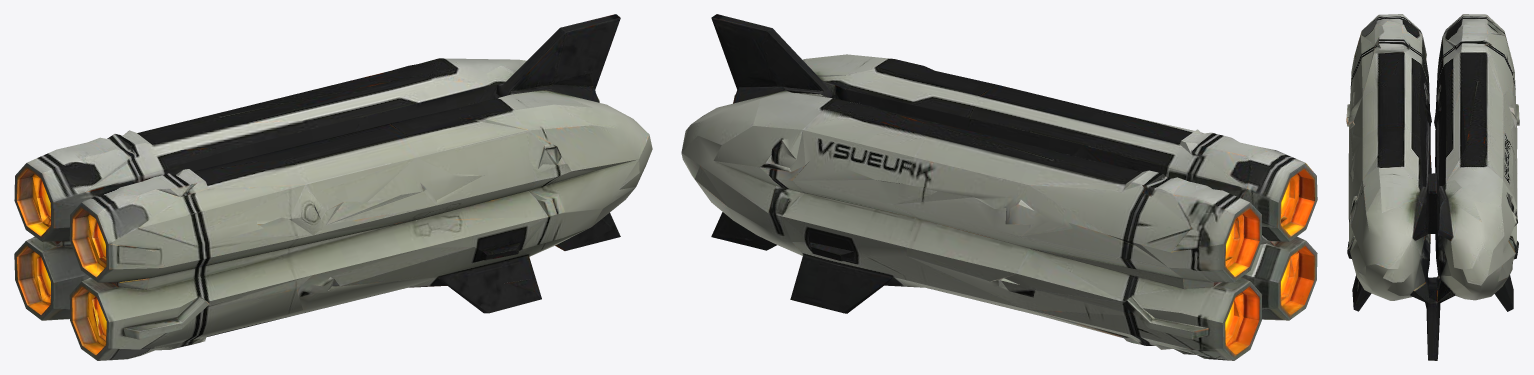
Rendered from module-missile.glb.
3 views of the same model, side by side, from view 1: azimuth 30°, elevation 25°; view 2: azimuth 150°, elevation 25°; view 3: azimuth 270°, elevation 25° (orthographic). The views are drawn at different scales.
Bounding box in the file's own units: 1.9 × 0.7103 × 0.6637.
Materials: 1 (1 with a texture image).
